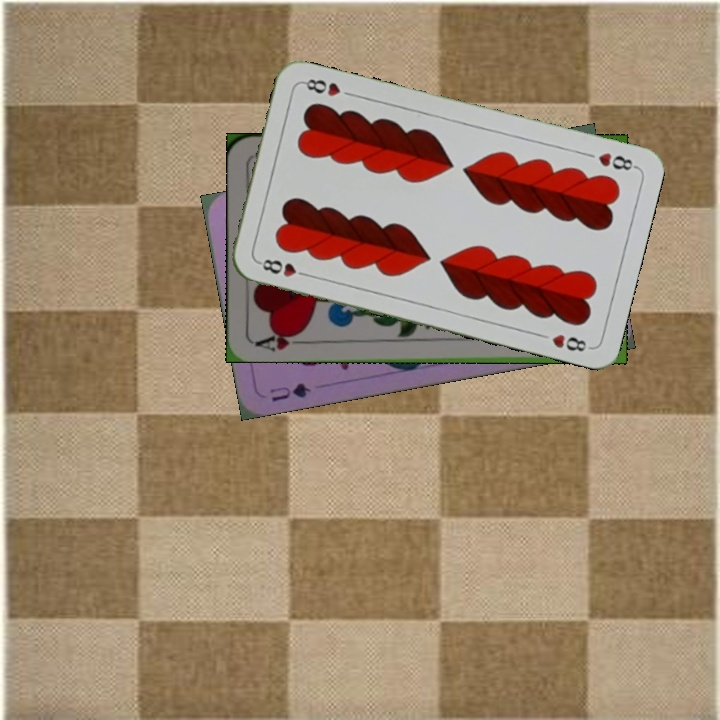GU: (265, 378, 314, 404)
H8: (254, 254, 313, 280), (594, 148, 639, 173)
HA: (251, 327, 310, 354)
